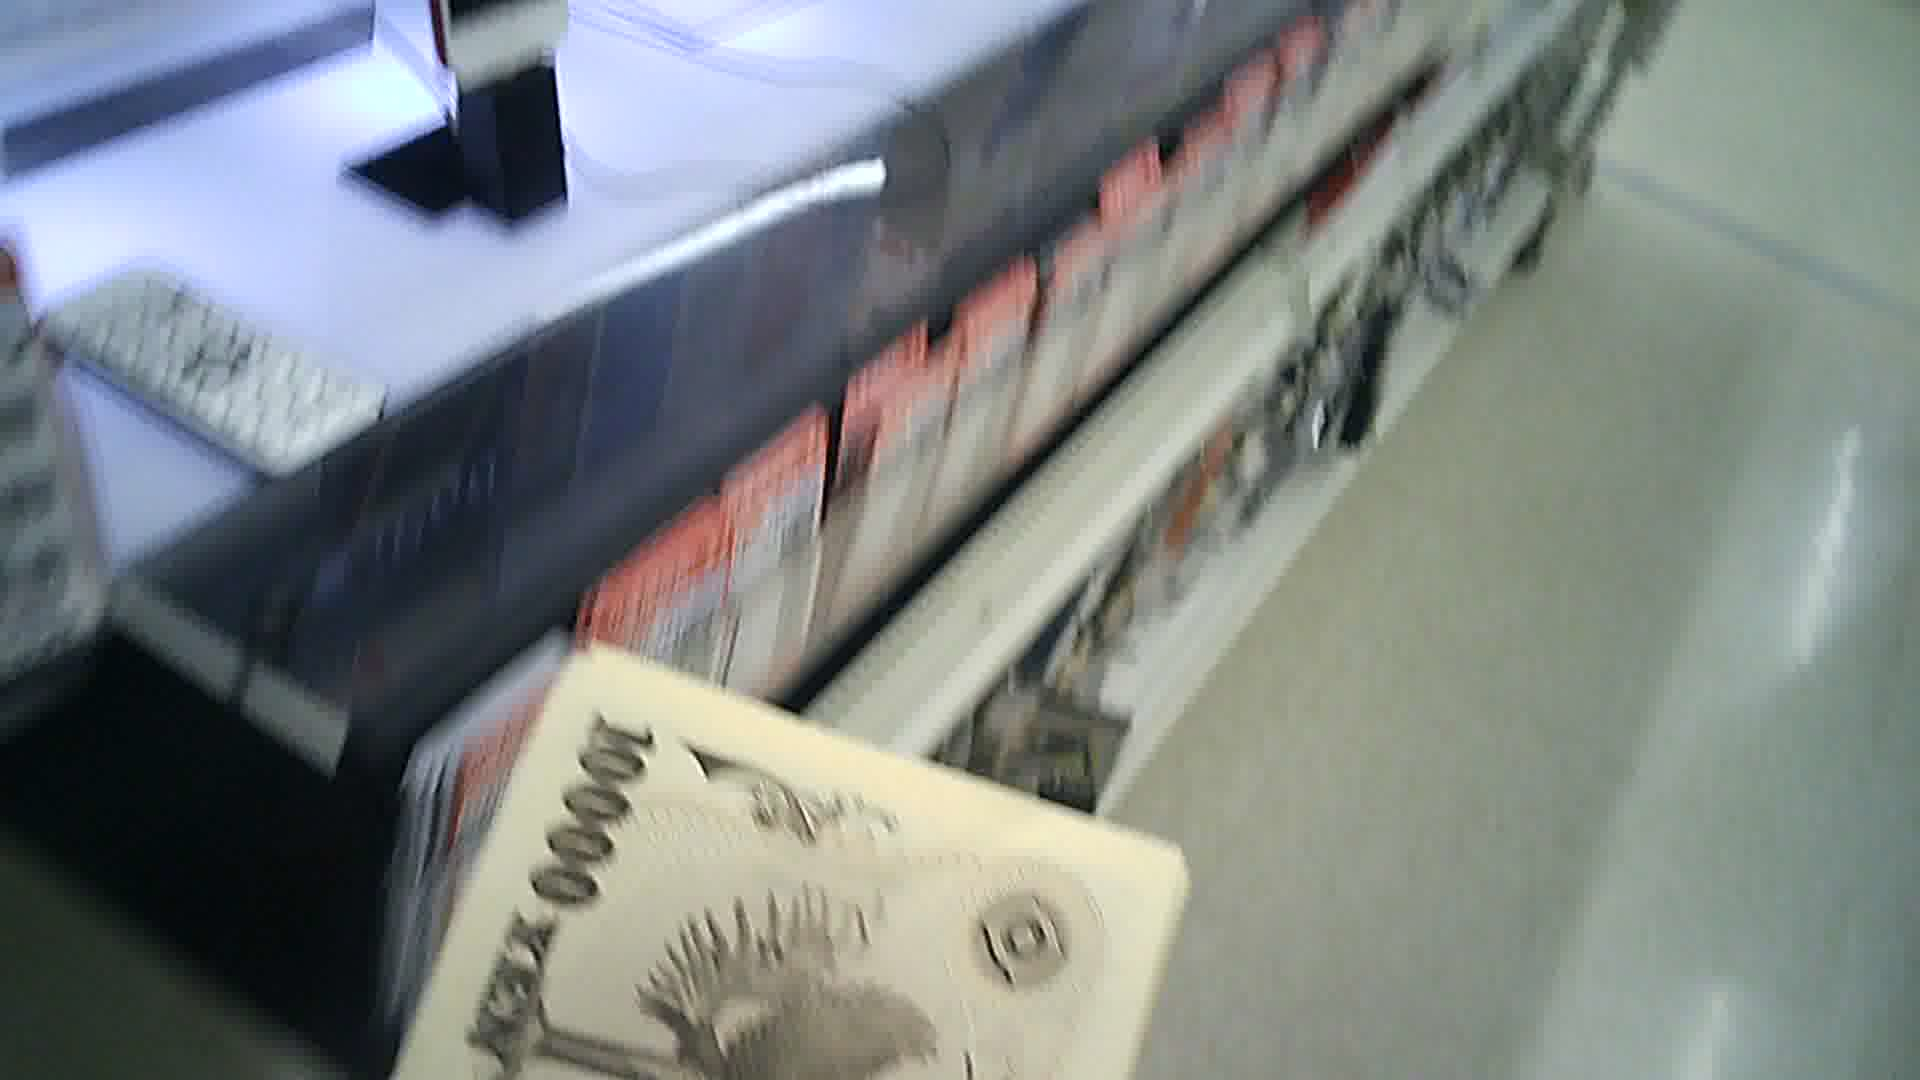10,000 Yen: (396, 640, 1218, 1079)
